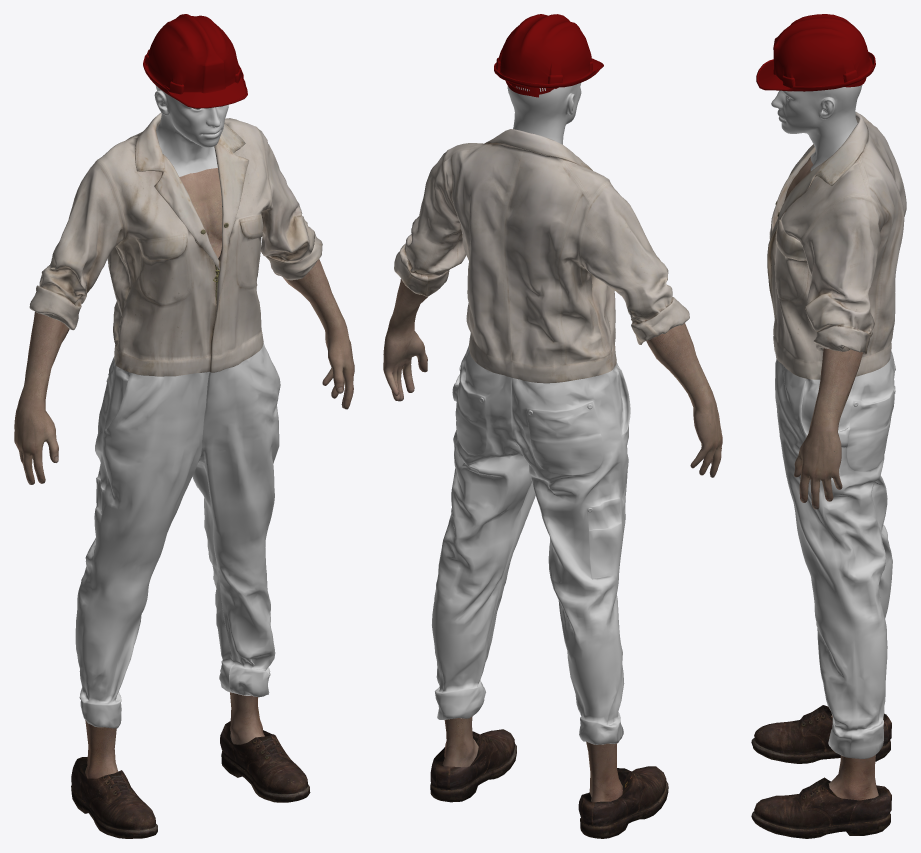
File: anquanmao.fbx
3 renders of one model, left to right at view 1: azimuth 30°, elevation 25°; view 2: azimuth 150°, elevation 25°; view 3: azimuth 270°, elevation 25°, orthographic.
Parts seen in each view (by area): view 1: polySurface16, polySurface13, xiezi, E003PLVE1, polySurface21, polySurface23, polySurface20, polySurface24, rdmobj05, rdmobj06; view 2: polySurface16, polySurface13, xiezi, E003PLVE1, polySurface21, polySurface20, polySurface23, rdmobj05, rdmobj06; view 3: polySurface16, polySurface13, xiezi, E003PLVE1, polySurface20, polySurface23, rdmobj06.
Boxes of the visible parts, x1,y1,x2,y2 form: polySurface16: (75, 342, 280, 728); polySurface13: (29, 112, 322, 376); xiezi: (71, 721, 310, 838); E003PLVE1: (143, 14, 247, 108); polySurface21: (14, 312, 69, 484); polySurface23: (154, 85, 228, 176); polySurface20: (283, 259, 354, 409); polySurface24: (179, 167, 222, 258); rdmobj05: (85, 720, 118, 778); rdmobj06: (230, 692, 264, 744); polySurface16: (432, 346, 630, 744); polySurface13: (394, 129, 689, 383); xiezi: (430, 729, 668, 838); E003PLVE1: (494, 14, 603, 97); polySurface21: (645, 320, 722, 477); polySurface20: (383, 279, 427, 401); polySurface23: (507, 83, 581, 144); rdmobj05: (586, 741, 622, 802); rdmobj06: (442, 716, 478, 767); polySurface16: (775, 351, 895, 758); polySurface13: (767, 111, 906, 379); xiezi: (751, 705, 891, 838); E003PLVE1: (756, 14, 875, 91); polySurface20: (794, 348, 863, 509); polySurface23: (771, 85, 862, 171); rdmobj06: (828, 755, 878, 800).
Size of the model in its own units: 130 by 293 by 53.15.
